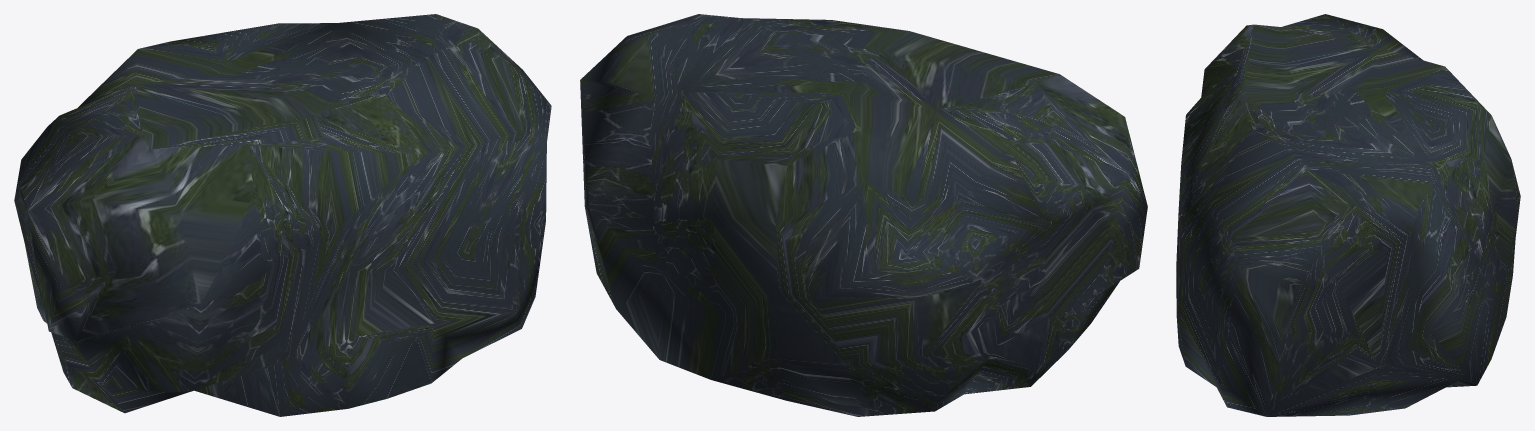
The model's file is rock_a.glb.
3 views of the same model, side by side, from view 1: azimuth 30°, elevation 25°; view 2: azimuth 150°, elevation 25°; view 3: azimuth 270°, elevation 25° (orthographic). The views are drawn at different scales.
Bounding box in the file's own units: 1.86 × 0.9551 × 1.22.
1 material, 1 textured.
